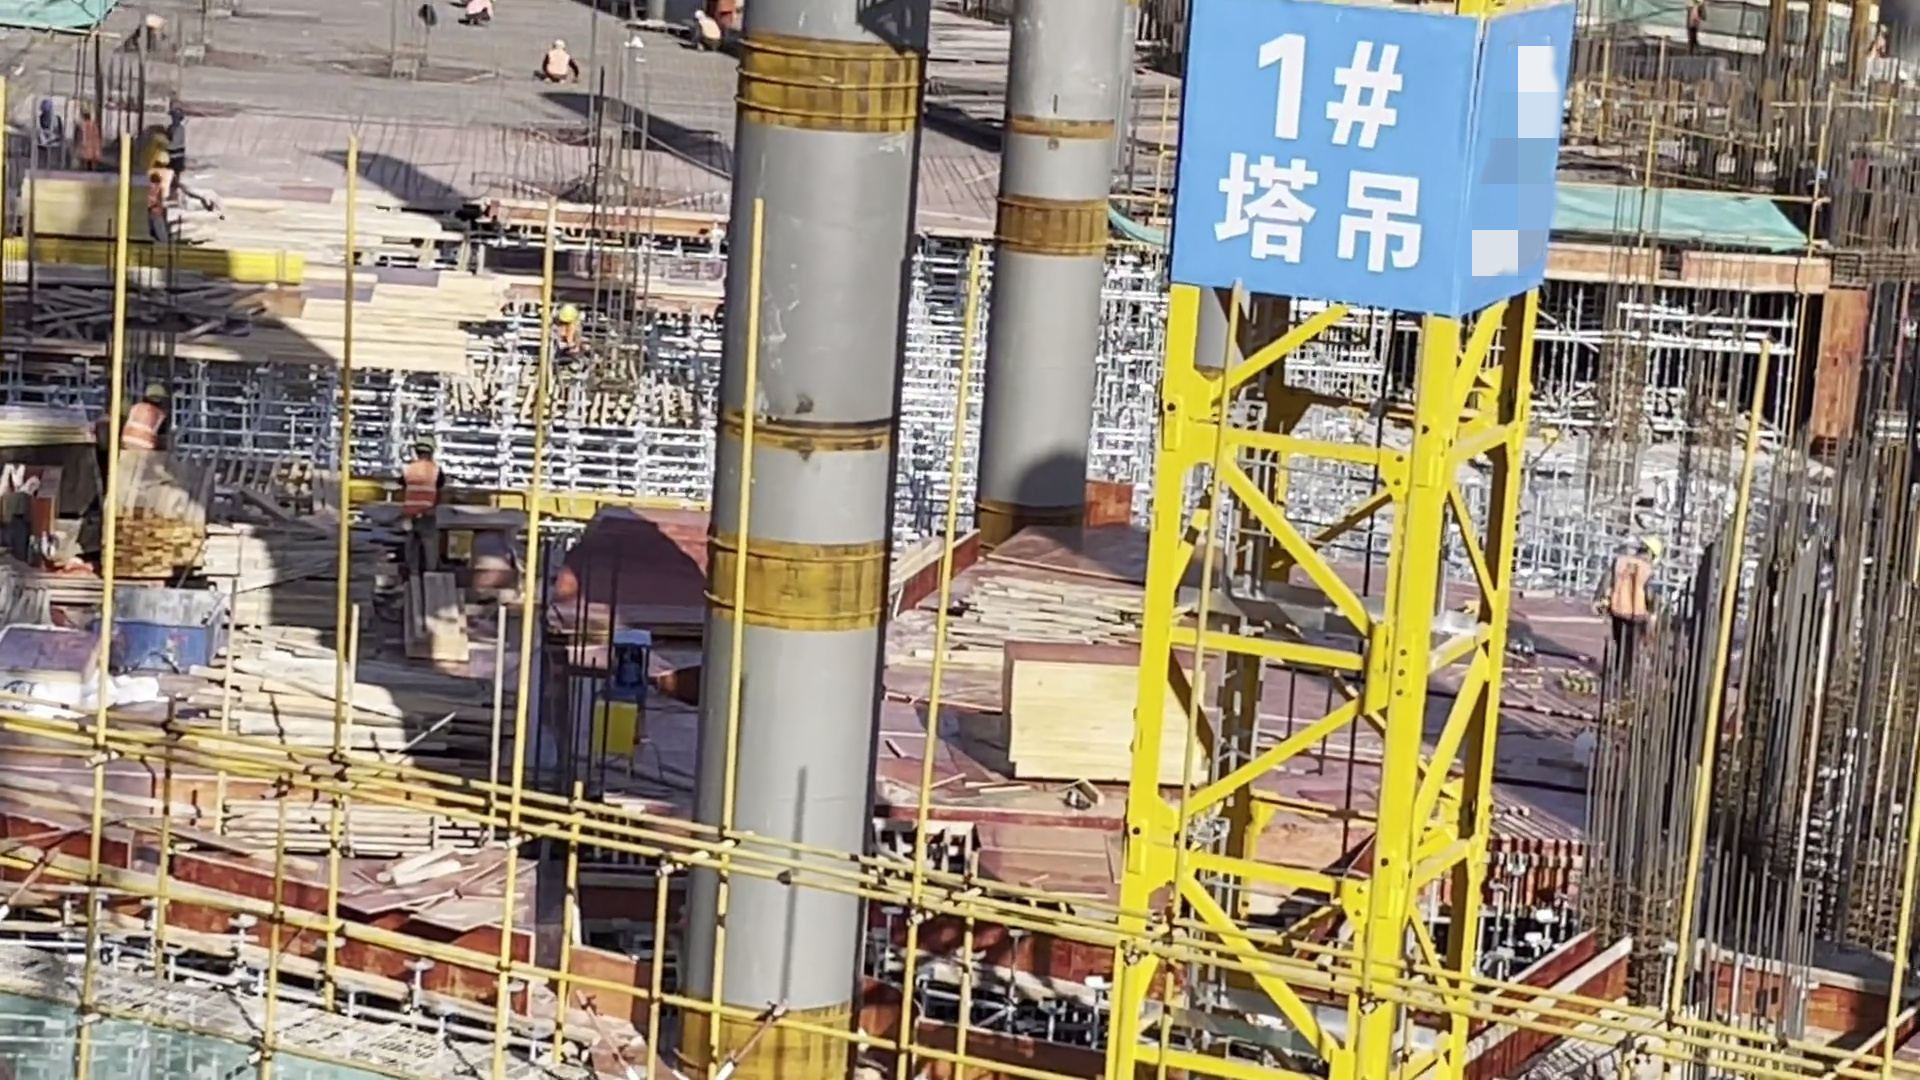board: (973, 638, 1219, 801), (1, 391, 101, 489), (20, 177, 158, 244)
helmet: (1641, 531, 1664, 565), (143, 379, 168, 403), (413, 435, 437, 462), (556, 300, 580, 327), (152, 152, 174, 169), (552, 38, 569, 56), (693, 10, 707, 23)
hopper: (112, 585, 240, 676)
person: (394, 424, 454, 595), (1606, 530, 1662, 690), (119, 376, 181, 461), (163, 99, 190, 209), (27, 91, 66, 162), (73, 95, 105, 179), (147, 150, 184, 223), (684, 5, 730, 63), (536, 33, 579, 94), (551, 299, 583, 379), (451, 1, 508, 36), (1681, 1, 1712, 54)
slogan: (1177, 13, 1604, 273)
vest: (1604, 547, 1662, 638), (120, 398, 169, 454), (396, 463, 443, 517), (76, 119, 104, 166), (36, 115, 62, 146)
wood: (220, 637, 516, 764), (95, 460, 206, 584), (393, 574, 477, 666)
